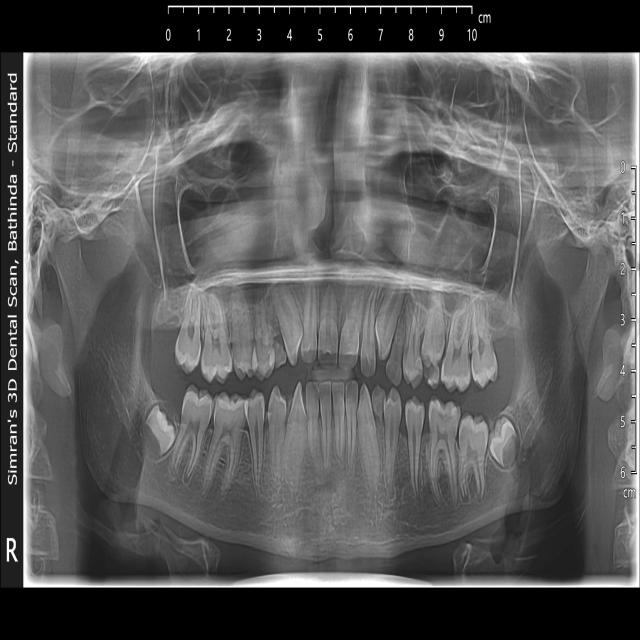Mandibular Canal: (102, 366, 192, 507)
Root Piece: (272, 338, 289, 370), (369, 386, 384, 420), (425, 360, 441, 389)
maxillary sinus: (402, 128, 522, 321), (154, 132, 280, 311)
